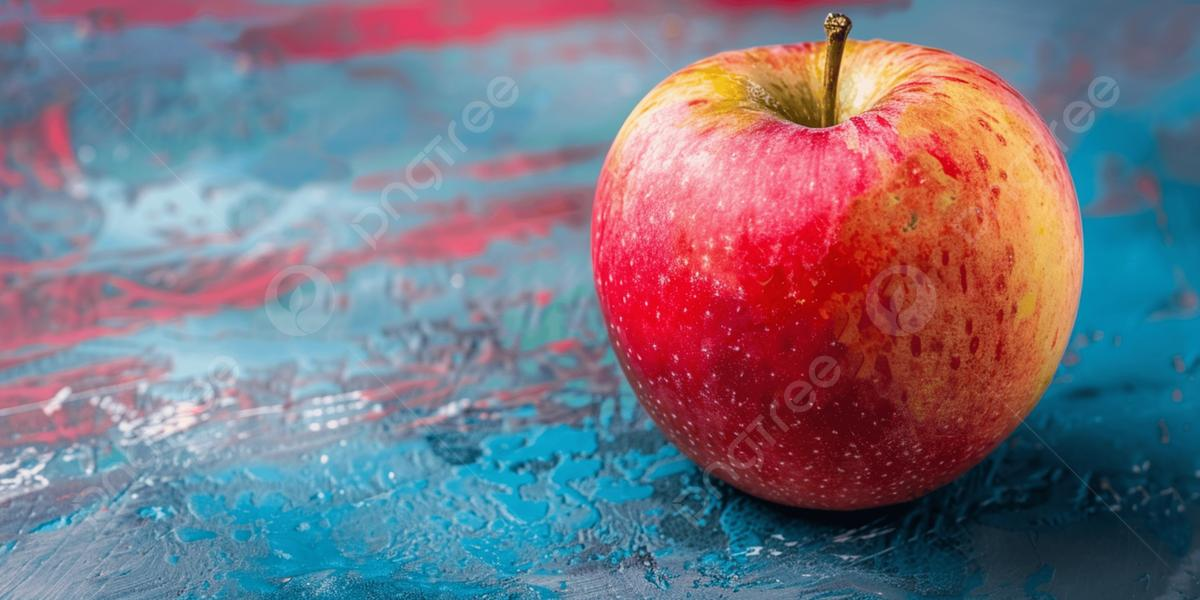apples: (602, 16, 1087, 528)
